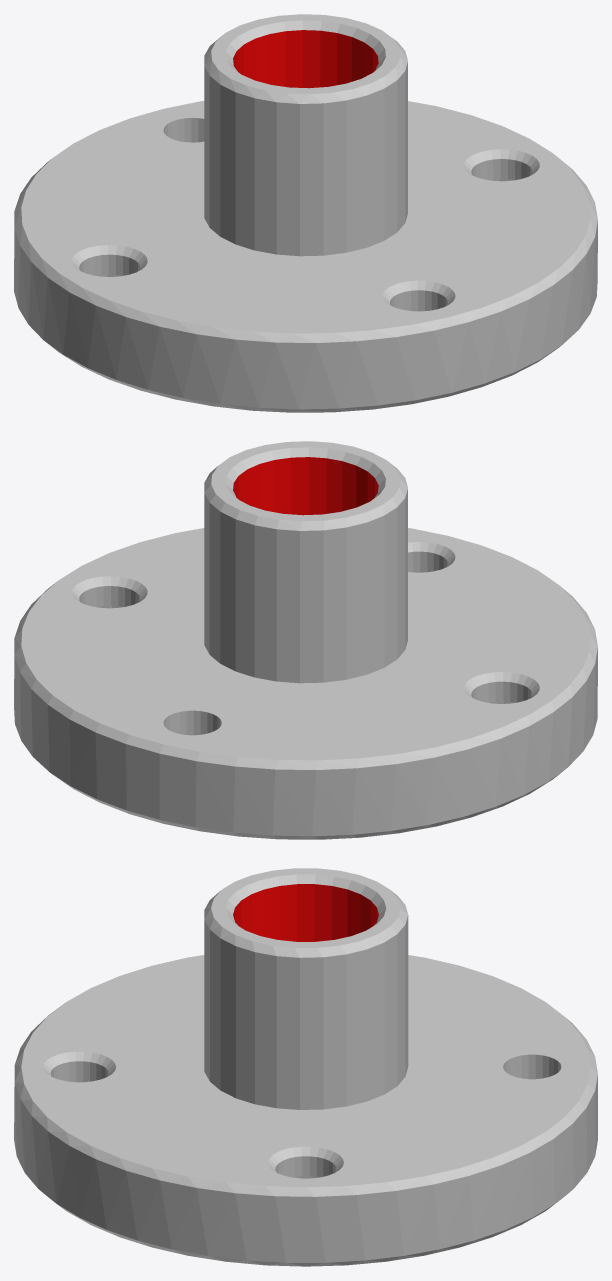
File: 953880_RW44_IT48_stp_2.obj
3 renders of one model, top to bottom at view 1: azimuth 30°, elevation 25°; view 2: azimuth 150°, elevation 25°; view 3: azimuth 270°, elevation 25°, orthographic.
Parts seen in each view (by area): view 1: Object1; view 2: Object1; view 3: Object1.
Boxes of the visible parts, x1,y1,x2,y2 form: Object1: [14, 14, 597, 412]; Object1: [14, 441, 597, 839]; Object1: [14, 868, 597, 1266].
Bounding box in the file's own units: 39.98 × 18 × 40.
